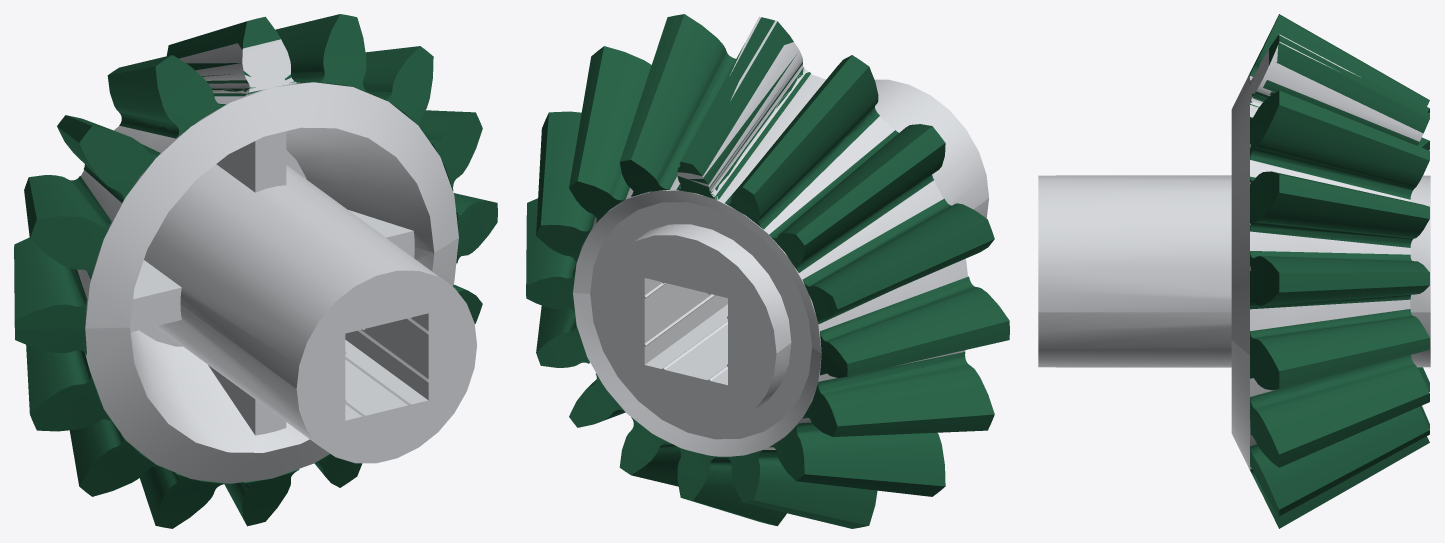
3 renders of one model, left to right at view 1: azimuth 30°, elevation 25°; view 2: azimuth 150°, elevation 25°; view 3: azimuth 270°, elevation 25°, orthographic. The views are drawn at different scales.
Parts seen in each view (by area): view 1: mesh (×16); view 2: mesh (×18); view 3: mesh (×11).
Boxes of the visible parts, x1,y1,x2,y2 form: mesh (×16): (14,14,497,528); mesh (×18): (526,14,1009,528); mesh (×11): (1038,14,1430,528).
Size of the model in its own units: 18.73 by 18.73 by 14.28.
